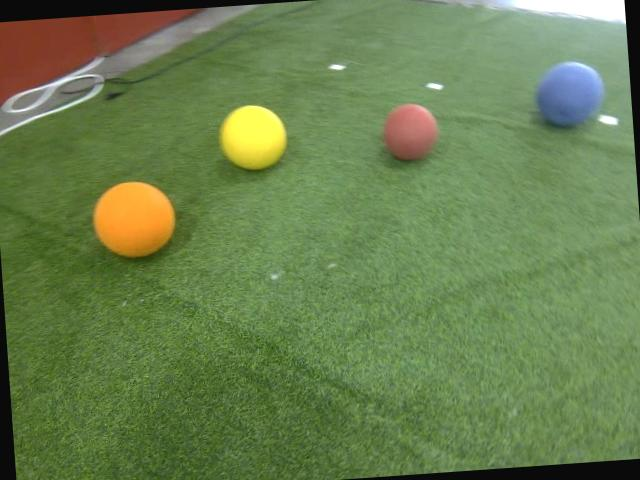blue_ball: (532, 59, 606, 128)
orange_ball: (88, 177, 178, 261)
red_ball: (380, 100, 440, 162)
yellow_ball: (216, 101, 290, 172)
